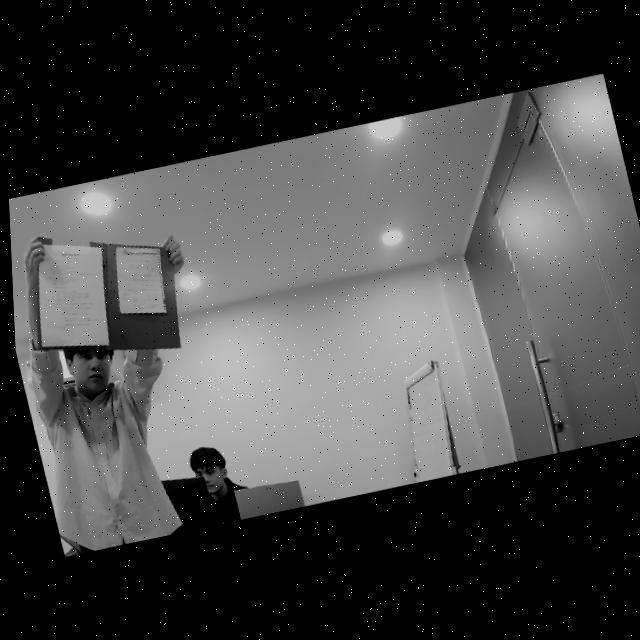document: (38, 244, 110, 347), (116, 247, 166, 313)
face: (60, 337, 135, 408), (185, 437, 232, 499)
